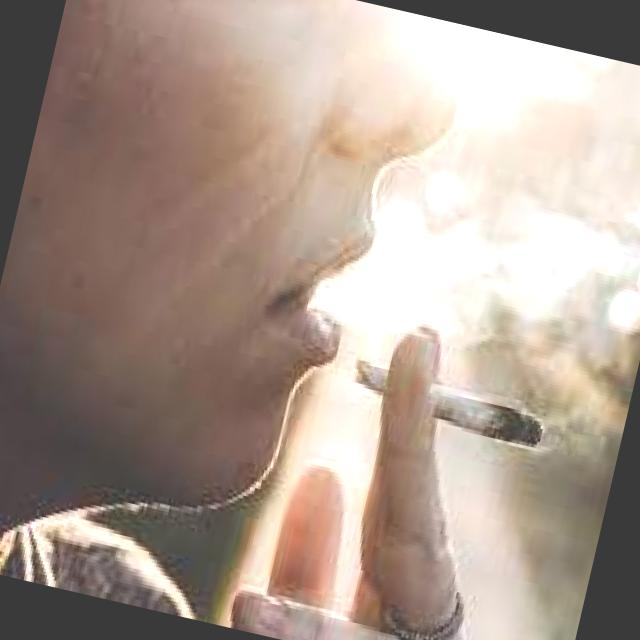cigarette: (339, 348, 560, 466)
